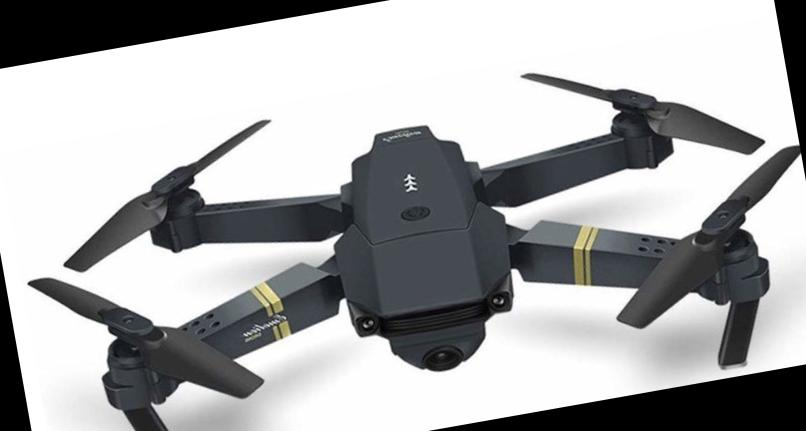drone: (0, 46, 806, 431)
